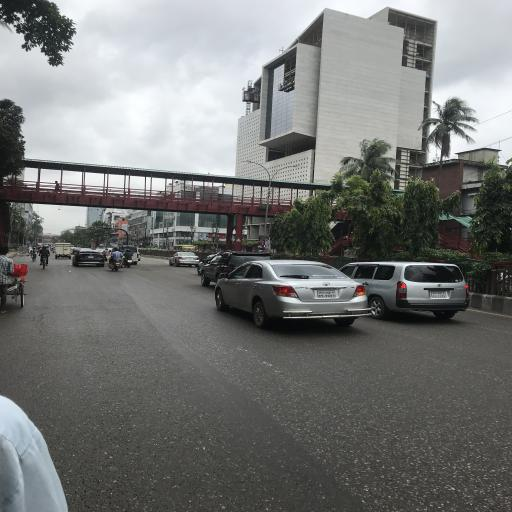bicycle: (39, 256, 51, 271), (31, 248, 38, 263)
car: (215, 259, 376, 330), (71, 250, 106, 270), (169, 252, 202, 269), (73, 248, 80, 254)
motorbike: (107, 259, 122, 273), (122, 258, 135, 269)
pickup: (56, 243, 73, 260)
rickshaw: (38, 247, 44, 255)
suv: (351, 258, 470, 322)
